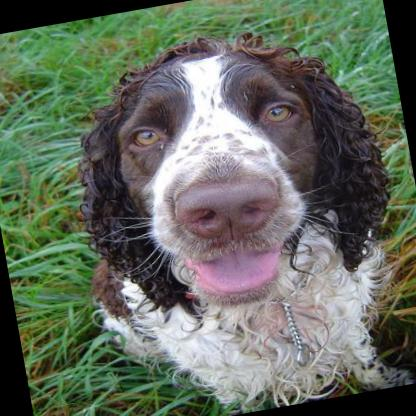English_springer: (48, 8, 416, 416)
